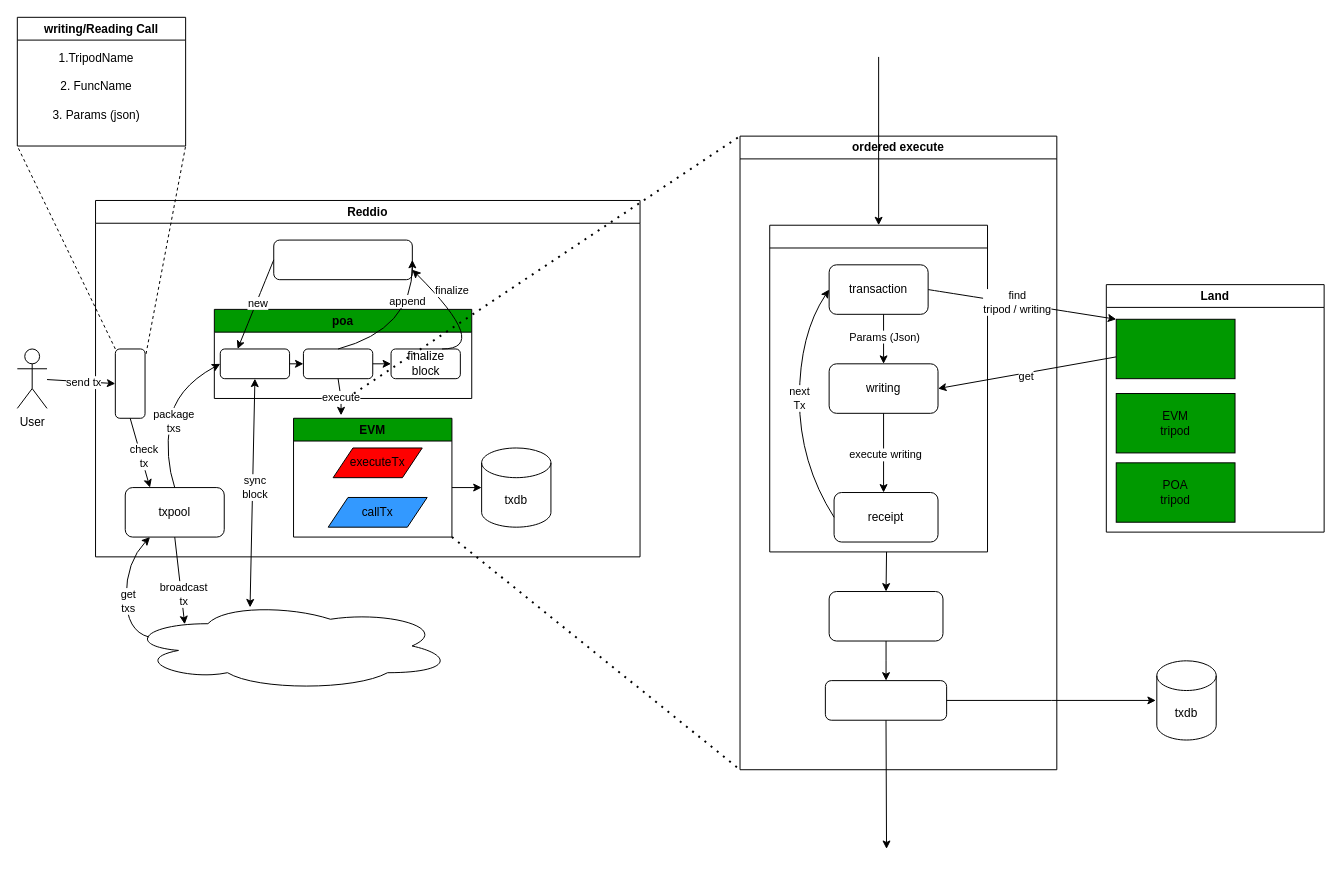
Image size: 1341x874. Some labels were removed from this diagram. The centre of each missing label's shape, as x and y in pixels:
"block" goes at point 878,388.
"blockchain" goes at point 342,259.
"cairo tripod" goes at point 1175,348.
"commit" goes at point 885,616.
"end block" goes at point 337,363.
"p2p" goes at point 289,645.
"rpc" goes at point 129,383.
"start block" goes at point 254,363.
"store receipt" goes at point 885,700.
